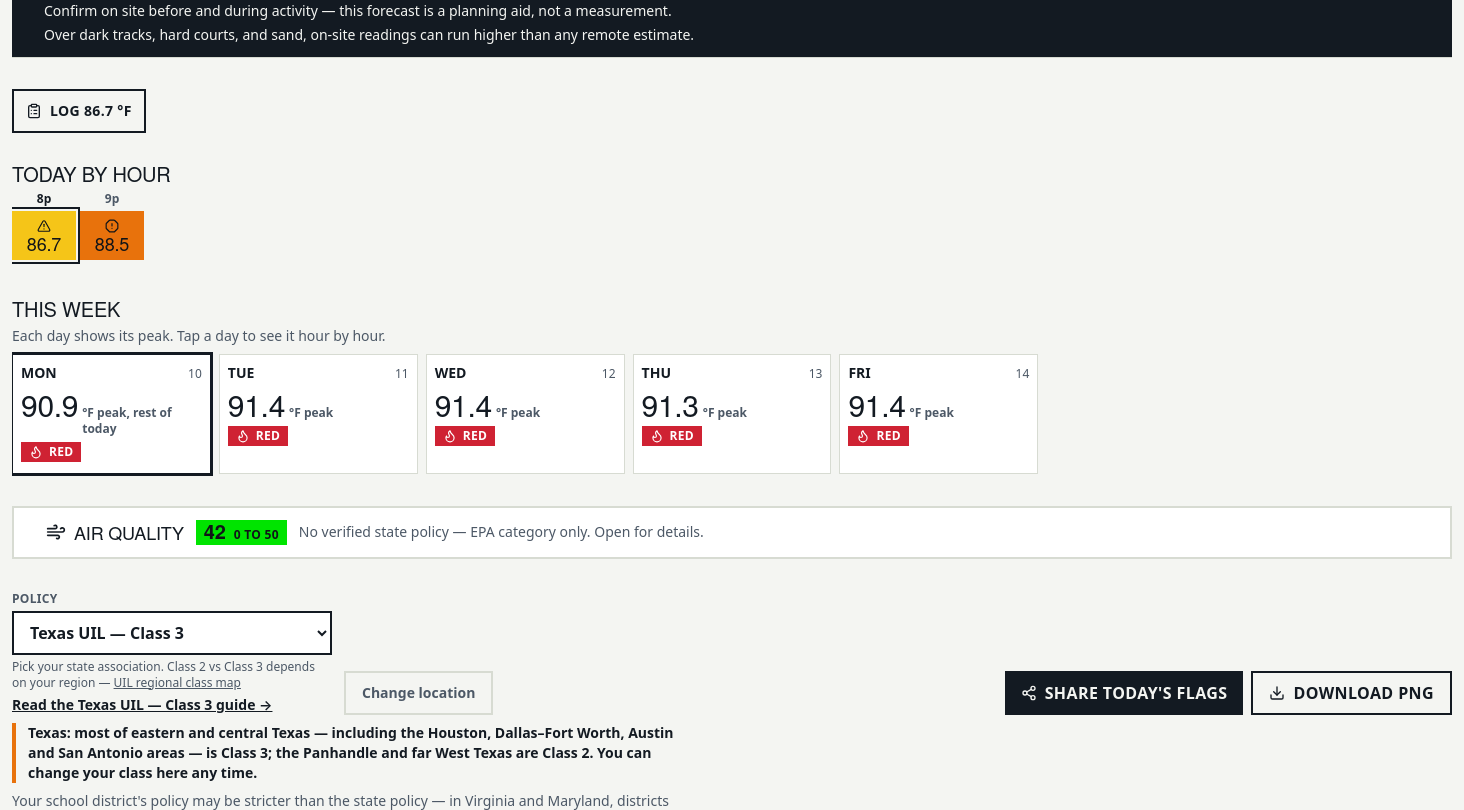
Test case: week strip drill-down › choosing a later day retargets the hourly view and says which day it is
(page scrolled)
Check: the heading "This week" is shown, box [12,294,120,323]
Click the button "Wed 12 91.4 °F peak RED" at (525, 406), box [427,355,624,457]
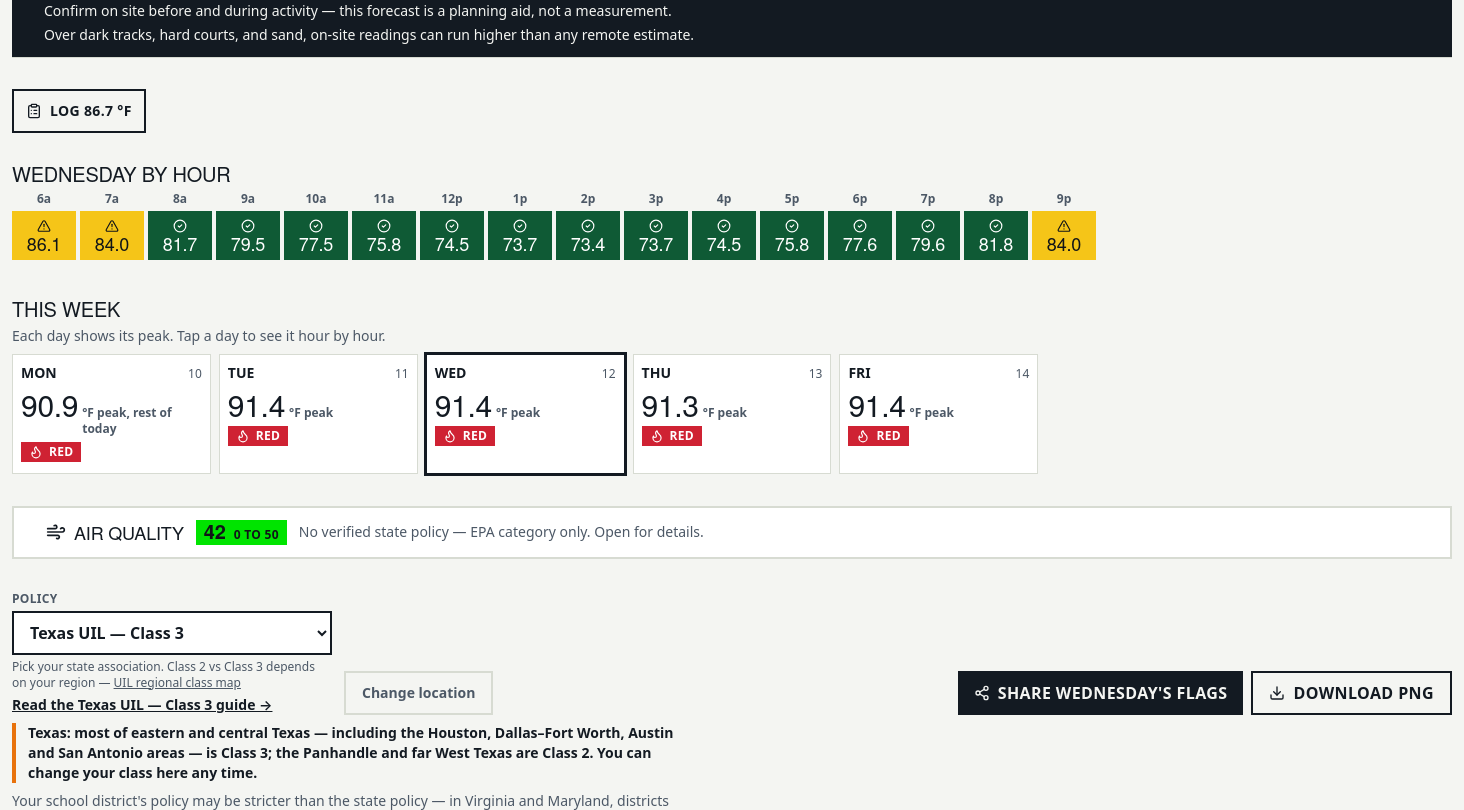
Check: the heading "Today by hour" is gone
